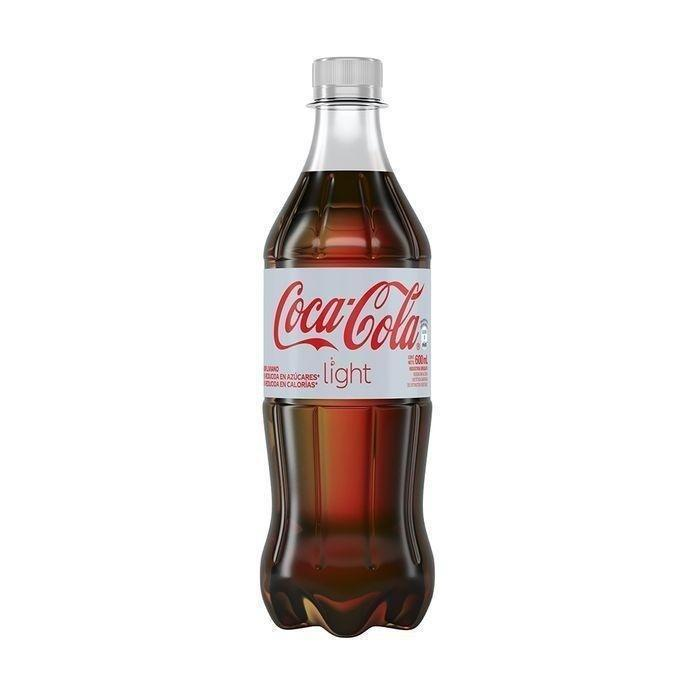bottle-plastic: (259, 54, 436, 637)
